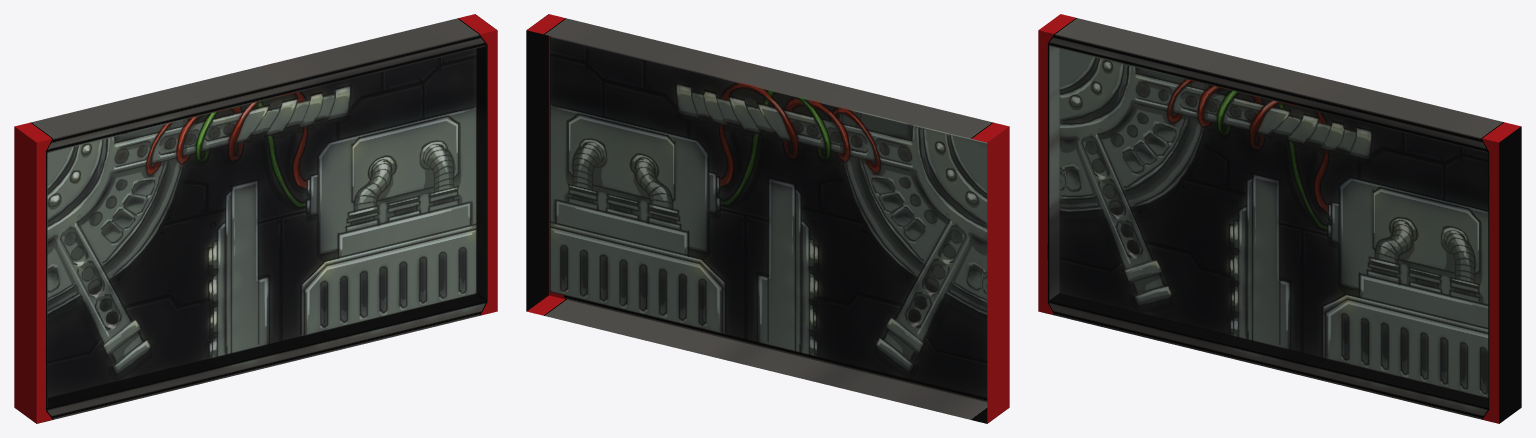
The model's file is WallMid.fbx.
3 views of the same model, side by side, from view 1: azimuth 30°, elevation 25°; view 2: azimuth 150°, elevation 25°; view 3: azimuth 330°, elevation 25° (orthographic).
Visible parts, largest first — view 1: wallMid; view 2: wallMid; view 3: wallMid.
Boxes of the visible parts, x1,y1,x2,y2 form: wallMid: (14, 14, 497, 423); wallMid: (526, 14, 1009, 423); wallMid: (1038, 14, 1521, 423).
Bounding box in the file's own units: 15.24 × 8.89 × 1.27.
